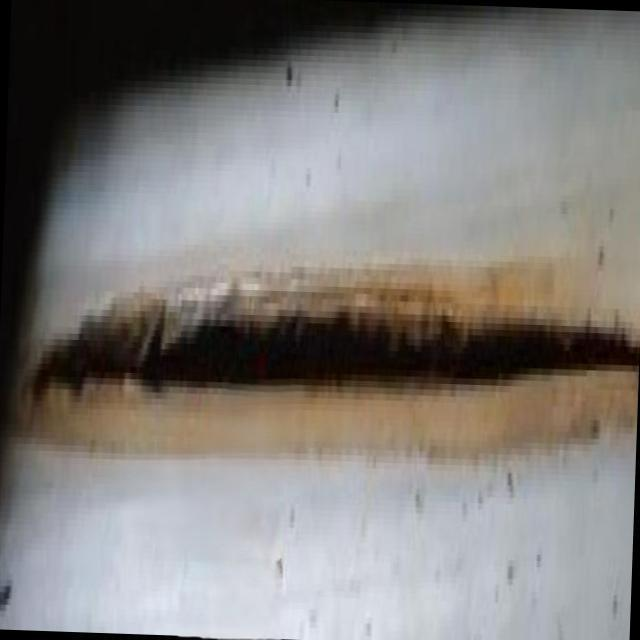Tear: (6, 282, 640, 429)
